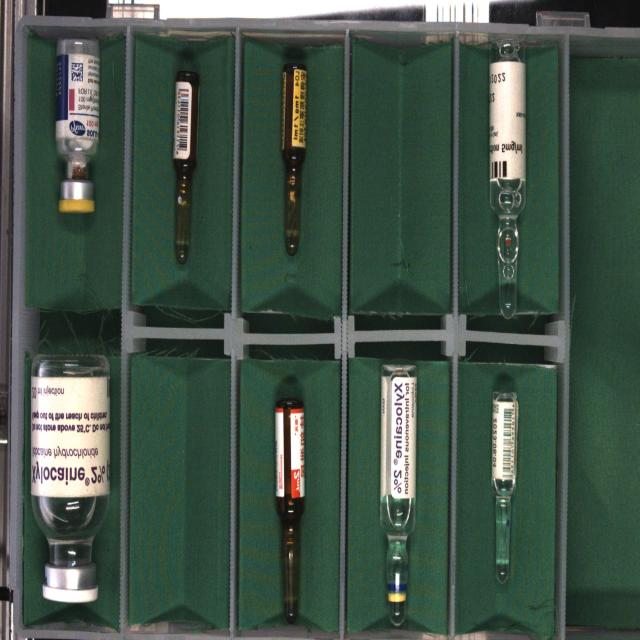Vials: (30, 354, 110, 603), (56, 39, 99, 213)
